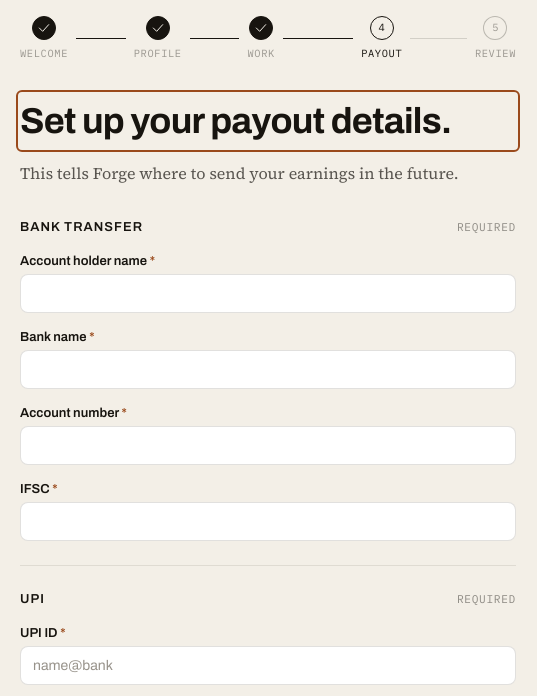
PayoutStep — K10 IFSC resolution › shows a not-found state for a well-formed but unknown IFSC, without blocking
Type "ZZZZ0999999" into the field labelled "IFSC *" at (268, 521), box [20, 502, 516, 541]
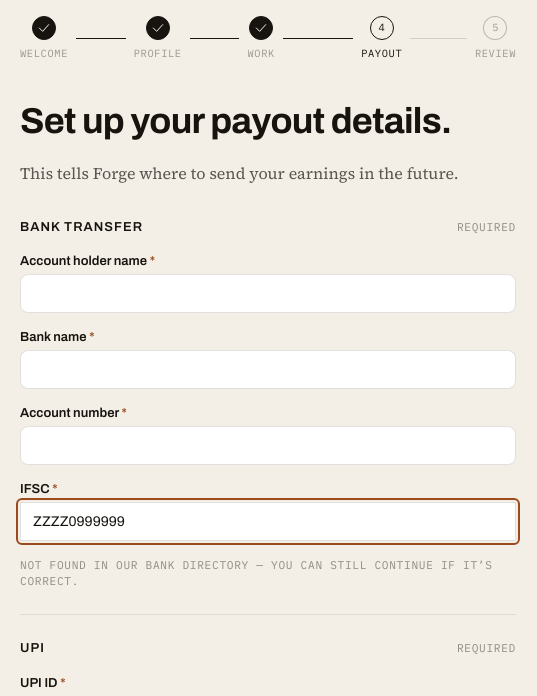
Check: the text "Not found in our bank directory" is shown, box [20, 558, 493, 588]
